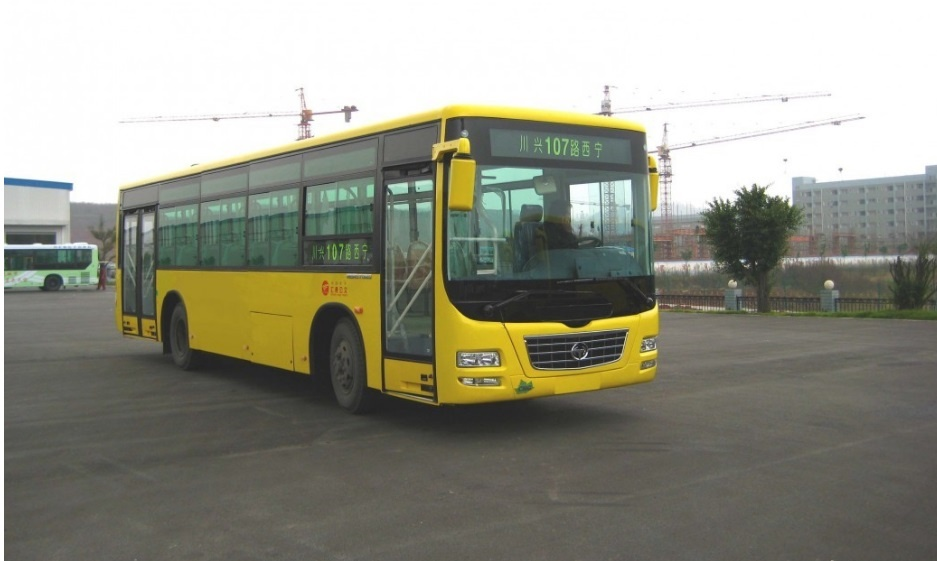bus: (102, 104, 662, 419)
